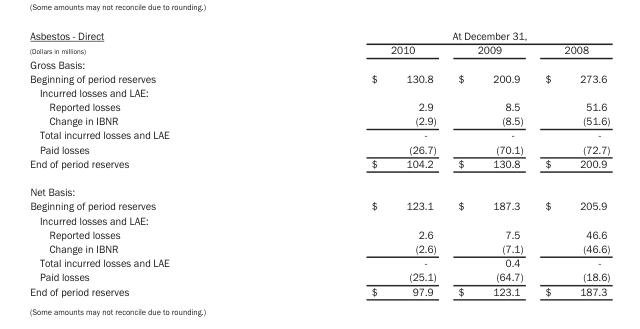table: (28, 28, 609, 298)
table column: (28, 28, 269, 298), (269, 28, 446, 298), (446, 28, 533, 298), (533, 28, 609, 298)
table column header: (28, 28, 609, 56)
table projected row header: (28, 177, 609, 198), (28, 56, 609, 71), (28, 85, 609, 99), (28, 213, 609, 227)
table row: (28, 156, 609, 177), (28, 177, 609, 198), (28, 56, 609, 71), (28, 127, 609, 142), (28, 198, 609, 213), (28, 269, 609, 284), (28, 28, 609, 42), (28, 42, 609, 56), (28, 71, 609, 85), (28, 85, 609, 99), (28, 99, 609, 113), (28, 113, 609, 127), (28, 142, 609, 156), (28, 213, 609, 227), (28, 227, 609, 241), (28, 241, 609, 255), (28, 255, 609, 269), (28, 284, 609, 298)
table spanning cell: (28, 28, 269, 56), (269, 28, 609, 42)
